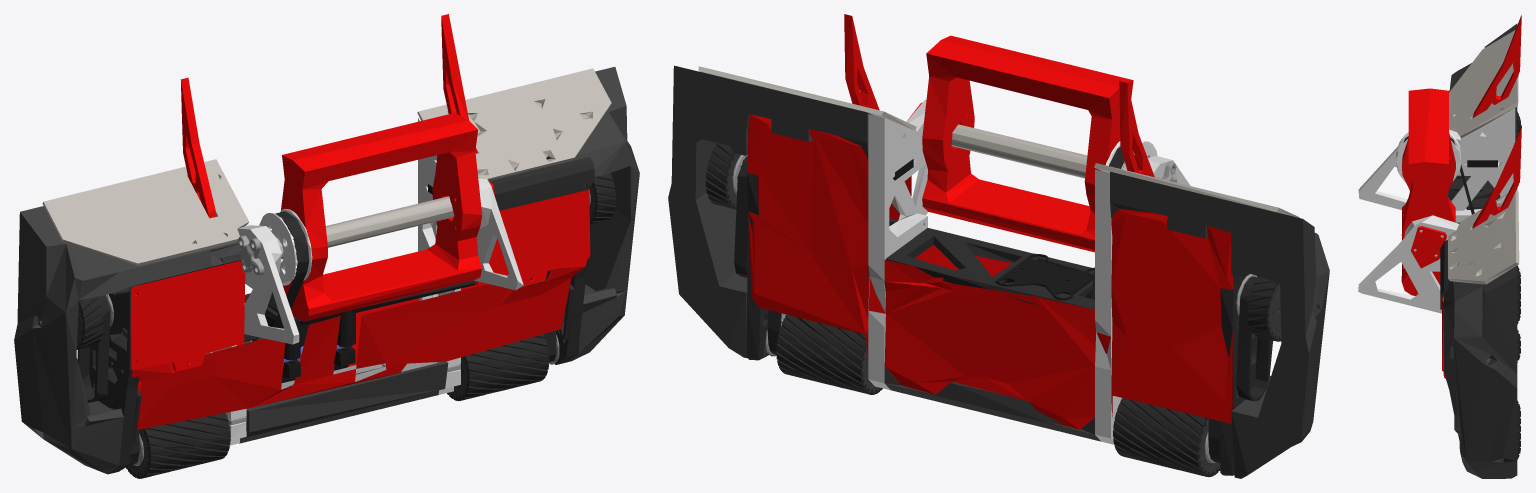
Rendered from rig.glb.
3 renders of one model, left to right at view 1: azimuth 30°, elevation 25°; view 2: azimuth 150°, elevation 25°; view 3: azimuth 270°, elevation 25°, orthographic. The views are drawn at different scales.
Parts seen in each view (by area): view 1: Central_Top_Plate_1, Revised-asymmetrical_weapon_v1_1, Component149_1, Component159_1, Component158_1, Front_Top_Plate_Left_1, Component148_1, Core_Upright_Rail_Right_1, Component145_1, Front_Top_Plate_Right_1, MK3_Cast_Rear_Wheels_v9_1, MK3_Cast_Rear_Wheels_v9_1_1 (+15 smaller); view 2: Central_Bottom_Plate_1, Left_Bottom_Plate_1, Left_Bottom_Plate_Mirror_1, Revised-asymmetrical_weapon_v1_1, Component149_1, Component148_1, Core_Upright_Rail_Right_1, Central_Frame_Rail_1, MK3_Cast_Rear_Wheels_v9_1, MK3_Cast_Rear_Wheels_v9_1_1, Component145_1, Component157_1 (+12 smaller); view 3: Component148_1, Core_Upright_Rail_Right_1, Revised-asymmetrical_weapon_v1_1, Component158_1, Component159_1, Rhino_Fork_v13_v2_2, Rhino_Fork_v13_v2_1, Shaft_End_Stop_Right_1, Outer_Wall_Rail_Right_1, Central_Frame_Rail_1, 1277N771_Timing_Belt_Pulley_v2_1, Component151_1 (+5 smaller).
Part boxes in pixels (x1,y1,x2,y2): Central_Top_Plate_1: [132, 259, 586, 429]; Revised-asymmetrical_weapon_v1_1: [281, 113, 481, 321]; Component149_1: [14, 206, 241, 474]; Component159_1: [42, 159, 249, 265]; Component158_1: [417, 68, 611, 179]; Front_Top_Plate_Left_1: [130, 260, 245, 371]; Component148_1: [488, 67, 639, 361]; Core_Upright_Rail_Right_1: [205, 117, 523, 445]; Component145_1: [239, 361, 448, 443]; Front_Top_Plate_Right_1: [475, 185, 590, 287]; MK3_Cast_Rear_Wheels_v9_1: [122, 413, 230, 478]; MK3_Cast_Rear_Wheels_v9_1_1: [447, 334, 559, 401]; Central_Bottom_Plate_1: [868, 259, 1110, 429]; Left_Bottom_Plate_1: [1111, 209, 1233, 423]; Left_Bottom_Plate_Mirror_1: [747, 114, 868, 359]; Revised-asymmetrical_weapon_v1_1: [922, 35, 1133, 252]; Component149_1: [1110, 171, 1329, 478]; Component148_1: [668, 65, 872, 358]; Core_Upright_Rail_Right_1: [868, 99, 1190, 444]; Central_Frame_Rail_1: [886, 218, 1253, 334]; MK3_Cast_Rear_Wheels_v9_1: [1113, 398, 1220, 477]; MK3_Cast_Rear_Wheels_v9_1_1: [765, 313, 882, 394]; Component145_1: [884, 367, 1100, 441]; Component157_1: [951, 124, 1167, 178]; Component148_1: [1444, 265, 1517, 478]; Core_Upright_Rail_Right_1: [1358, 108, 1515, 313]; Revised-asymmetrical_weapon_v1_1: [1401, 88, 1455, 295]; Component158_1: [1448, 190, 1519, 284]; Component159_1: [1449, 30, 1518, 138]; Rhino_Fork_v13_v2_2: [1472, 125, 1521, 228]; Rhino_Fork_v13_v2_1: [1473, 15, 1521, 117]; Shaft_End_Stop_Right_1: [1411, 226, 1446, 268]; Outer_Wall_Rail_Right_1: [1444, 309, 1459, 440]; Central_Frame_Rail_1: [1447, 175, 1500, 353]; 1277N771_Timing_Belt_Pulley_v2_1: [1396, 132, 1461, 182]; Component151_1: [1440, 240, 1448, 309].
Size of the model in its own units: 0.503 by 0.2914 by 0.1352.
